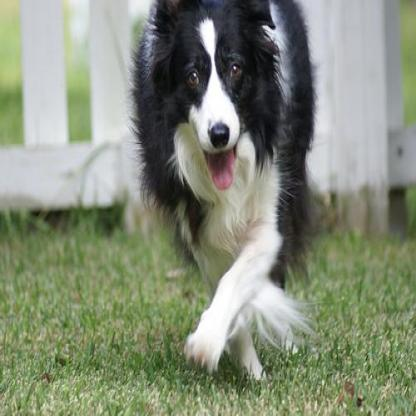collie: (127, 0, 316, 378)
